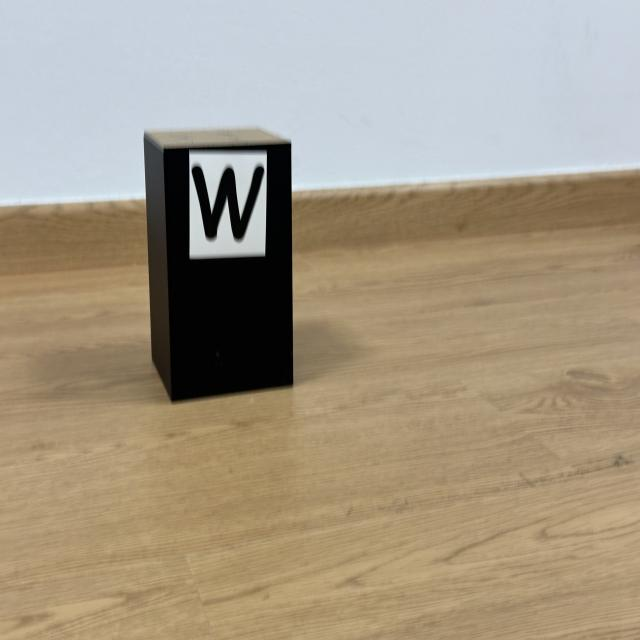W: (191, 165, 264, 240)
